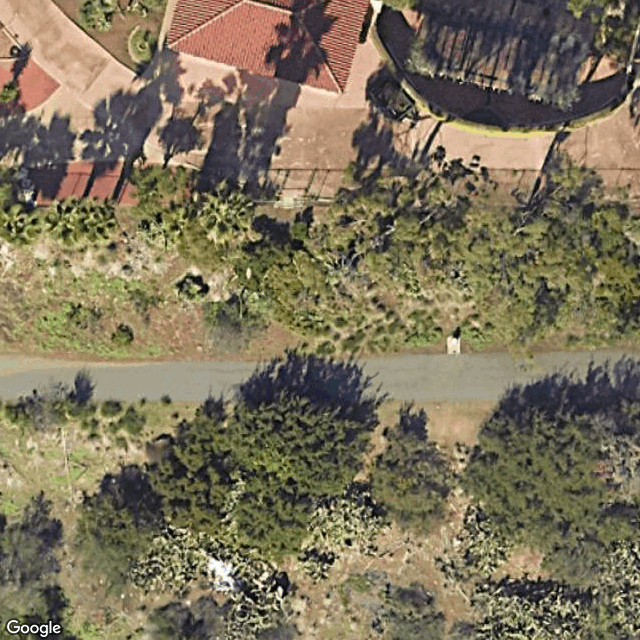palm: (192, 184, 263, 248), (44, 195, 98, 251), (132, 201, 192, 250), (77, 198, 123, 247)
